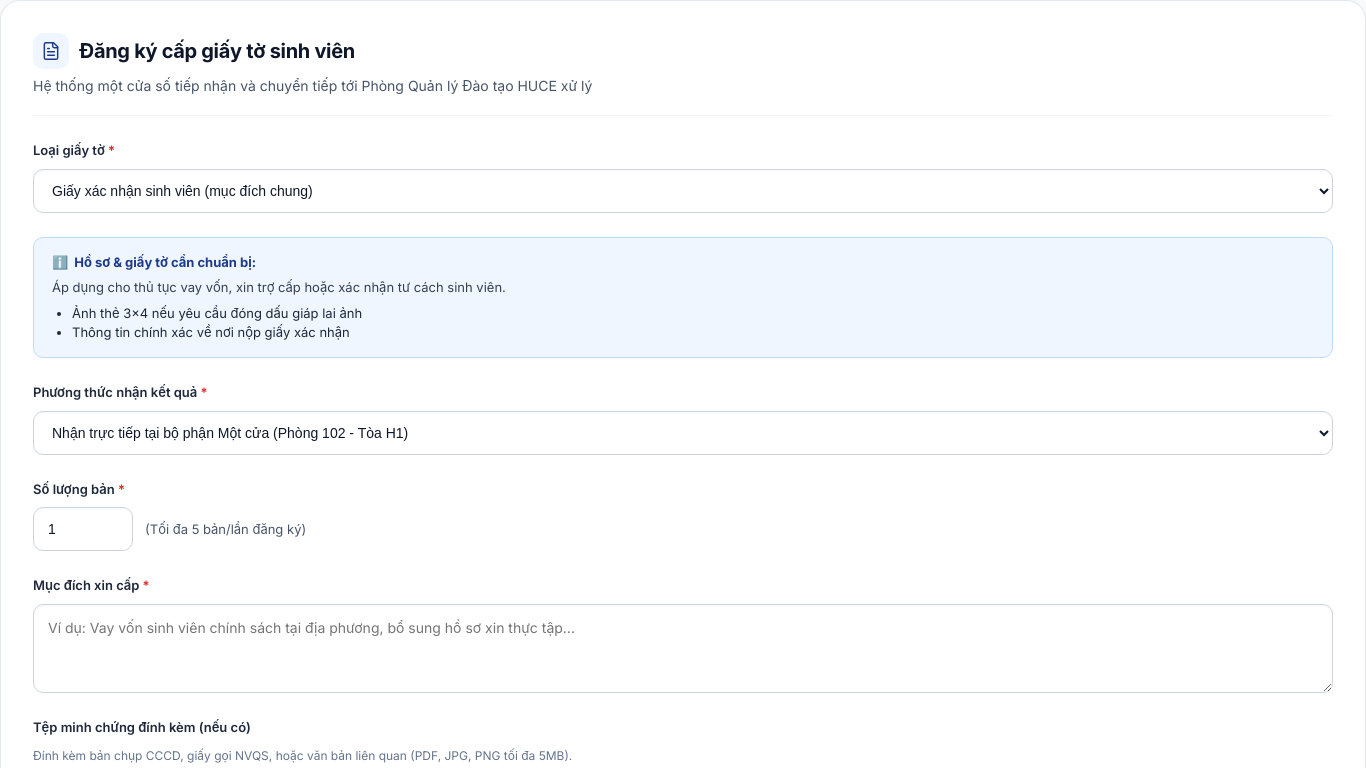
Test: DocumentRequestForm Enhanced AI & Attachments › suggests AI category when user types relevant keyword in reason
This screenshot has width=1366, height=768.
Replace the text in the text box labelled "Mục đích xin cấp *" with "Em cần nộp hồ sơ xin thực tập tại công ty xây dựng" at (683, 649), box [33,604,1333,693]
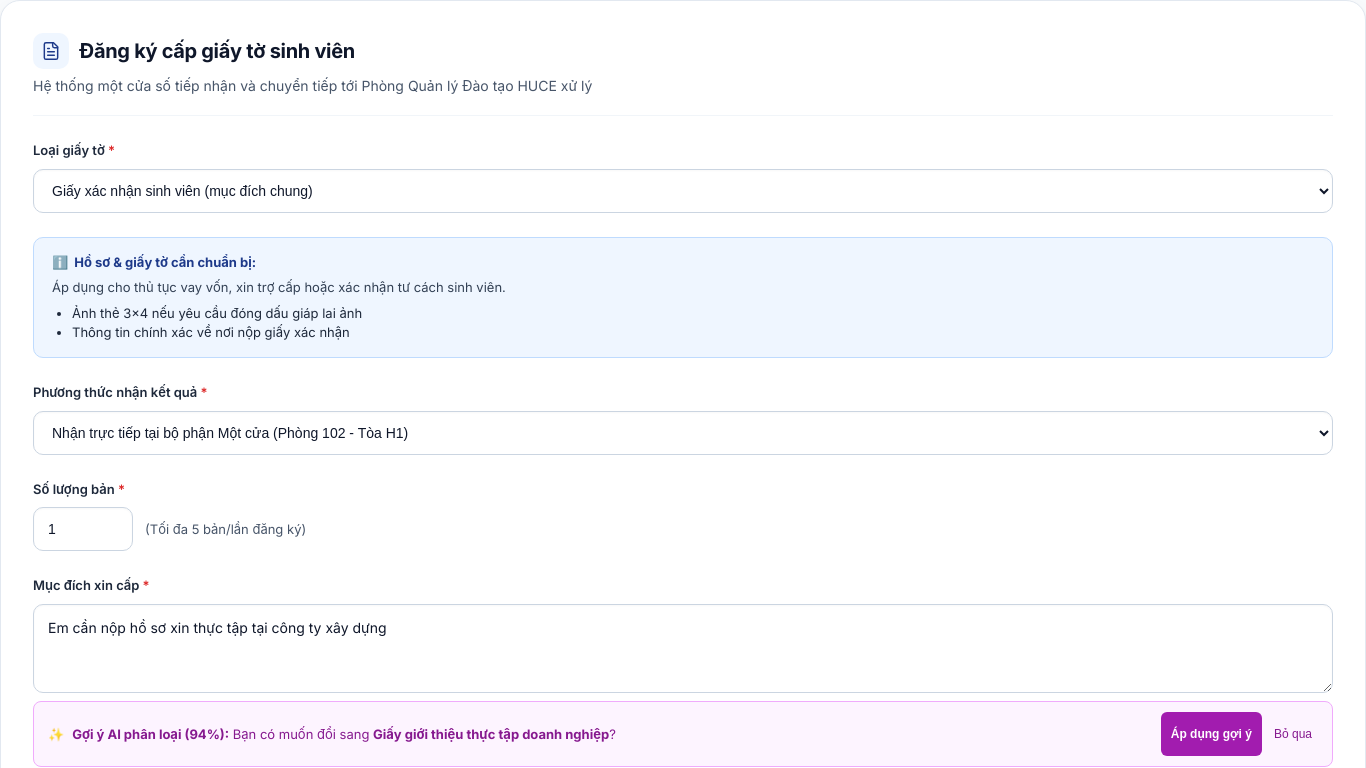
Expected: the text "Gợi ý AI phân loại (94%):" is shown, [72,726,229,742]
Click apply suggestion button
Click the button "Áp dụng gợi ý" at (1211, 734), box [1161,712,1262,756]
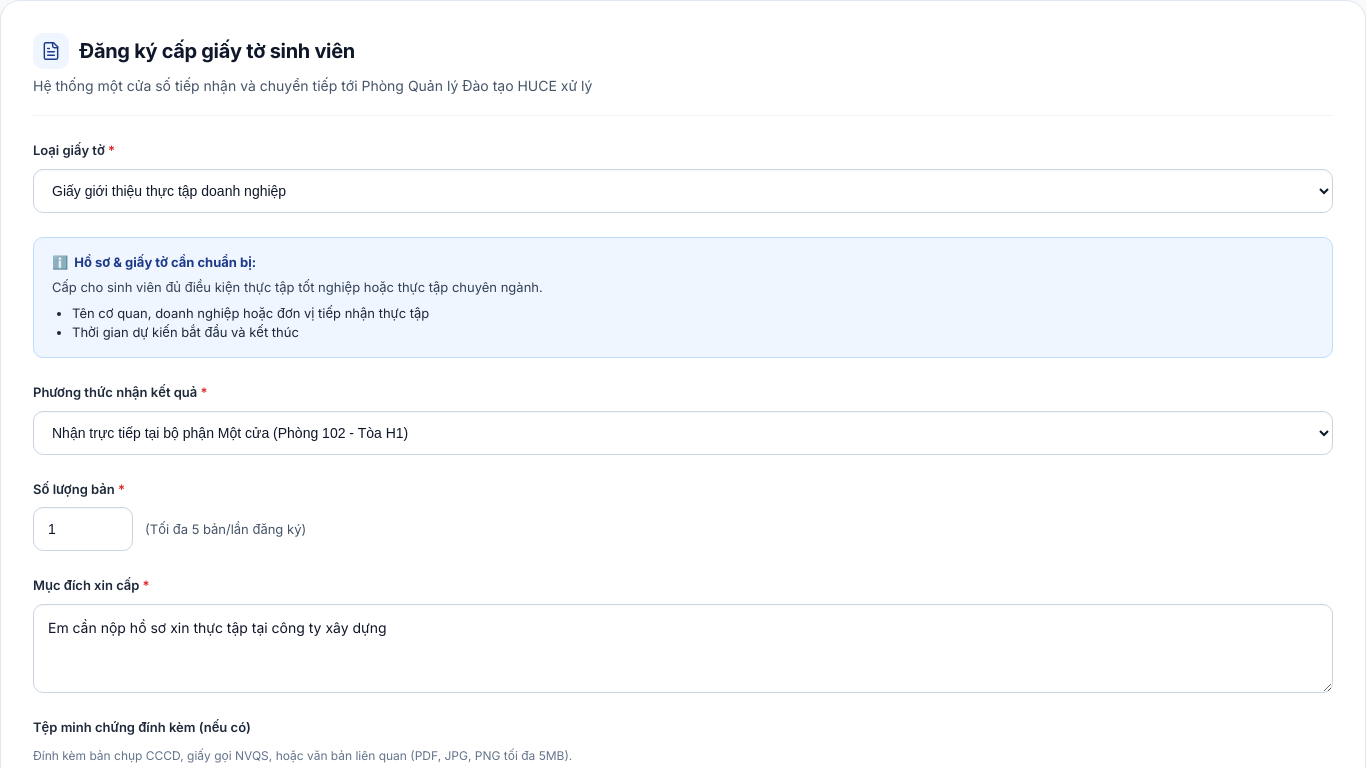
Expected: the dropdown labelled "Loại giấy tờ *" shows "Giấy giới thiệu thực tập doanh nghiệp", [33,169,1333,213]
